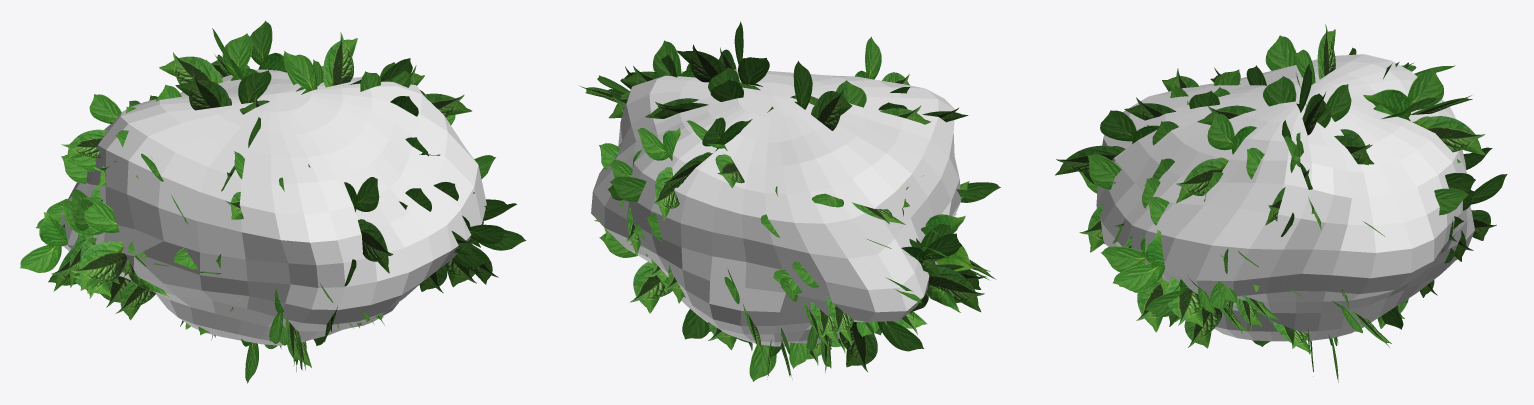
File: куст 1,2.fbx
The picture shows the model from 3 angles, left to right: view 1: azimuth 30°, elevation 25°; view 2: azimuth 150°, elevation 25°; view 3: azimuth 270°, elevation 25°; orthographic projection.
Parts seen in each view (by area): view 1: Сфера, Сфера|Плоскость|Dupli|; view 2: Сфера, Сфера|Плоскость|Dupli|; view 3: Сфера, Сфера|Плоскость|Dupli|.
Part boxes in pixels (bbox=[...]): Сфера: bbox=[61, 69, 486, 345]; Сфера|Плоскость|Dupli|: bbox=[20, 20, 526, 383]; Сфера: bbox=[591, 69, 961, 346]; Сфера|Плоскость|Dupli|: bbox=[579, 21, 1000, 381]; Сфера: bbox=[1096, 54, 1474, 341]; Сфера|Плоскость|Dupli|: bbox=[1055, 24, 1507, 382].
Size of the model in its own units: 984 by 603 by 876.
